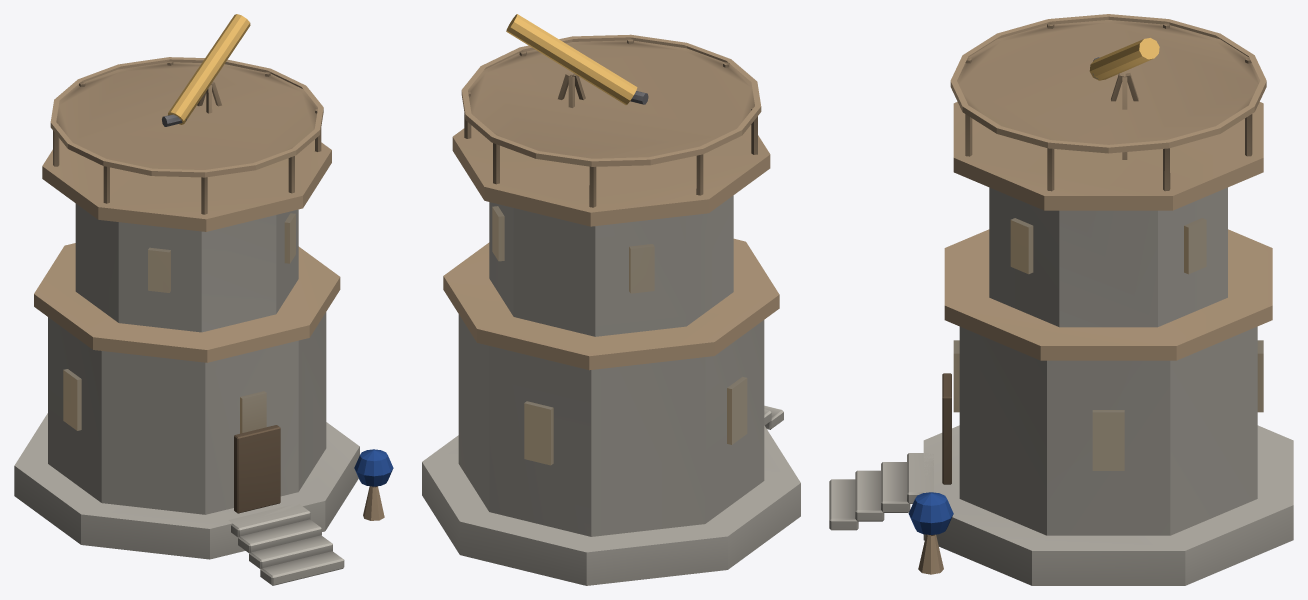
The model's file is bld_observatory.glb.
The picture shows the model from 3 angles, left to right: view 1: azimuth 30°, elevation 25°; view 2: azimuth 150°, elevation 25°; view 3: azimuth 270°, elevation 25°; orthographic projection. The views are drawn at different scales.
Visible parts, largest first — view 1: observatory; view 2: observatory; view 3: observatory.
Boxes of the visible parts, x1,y1,x2,y2 form: observatory: (14,14,393,585); observatory: (422,14,800,585); observatory: (829,14,1293,585).
Bounding box in the file's own units: 1.15 × 1.75 × 1.44.
